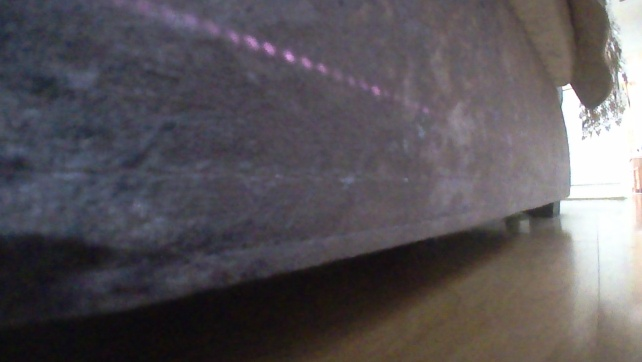sofa1: (0, 0, 631, 337)
